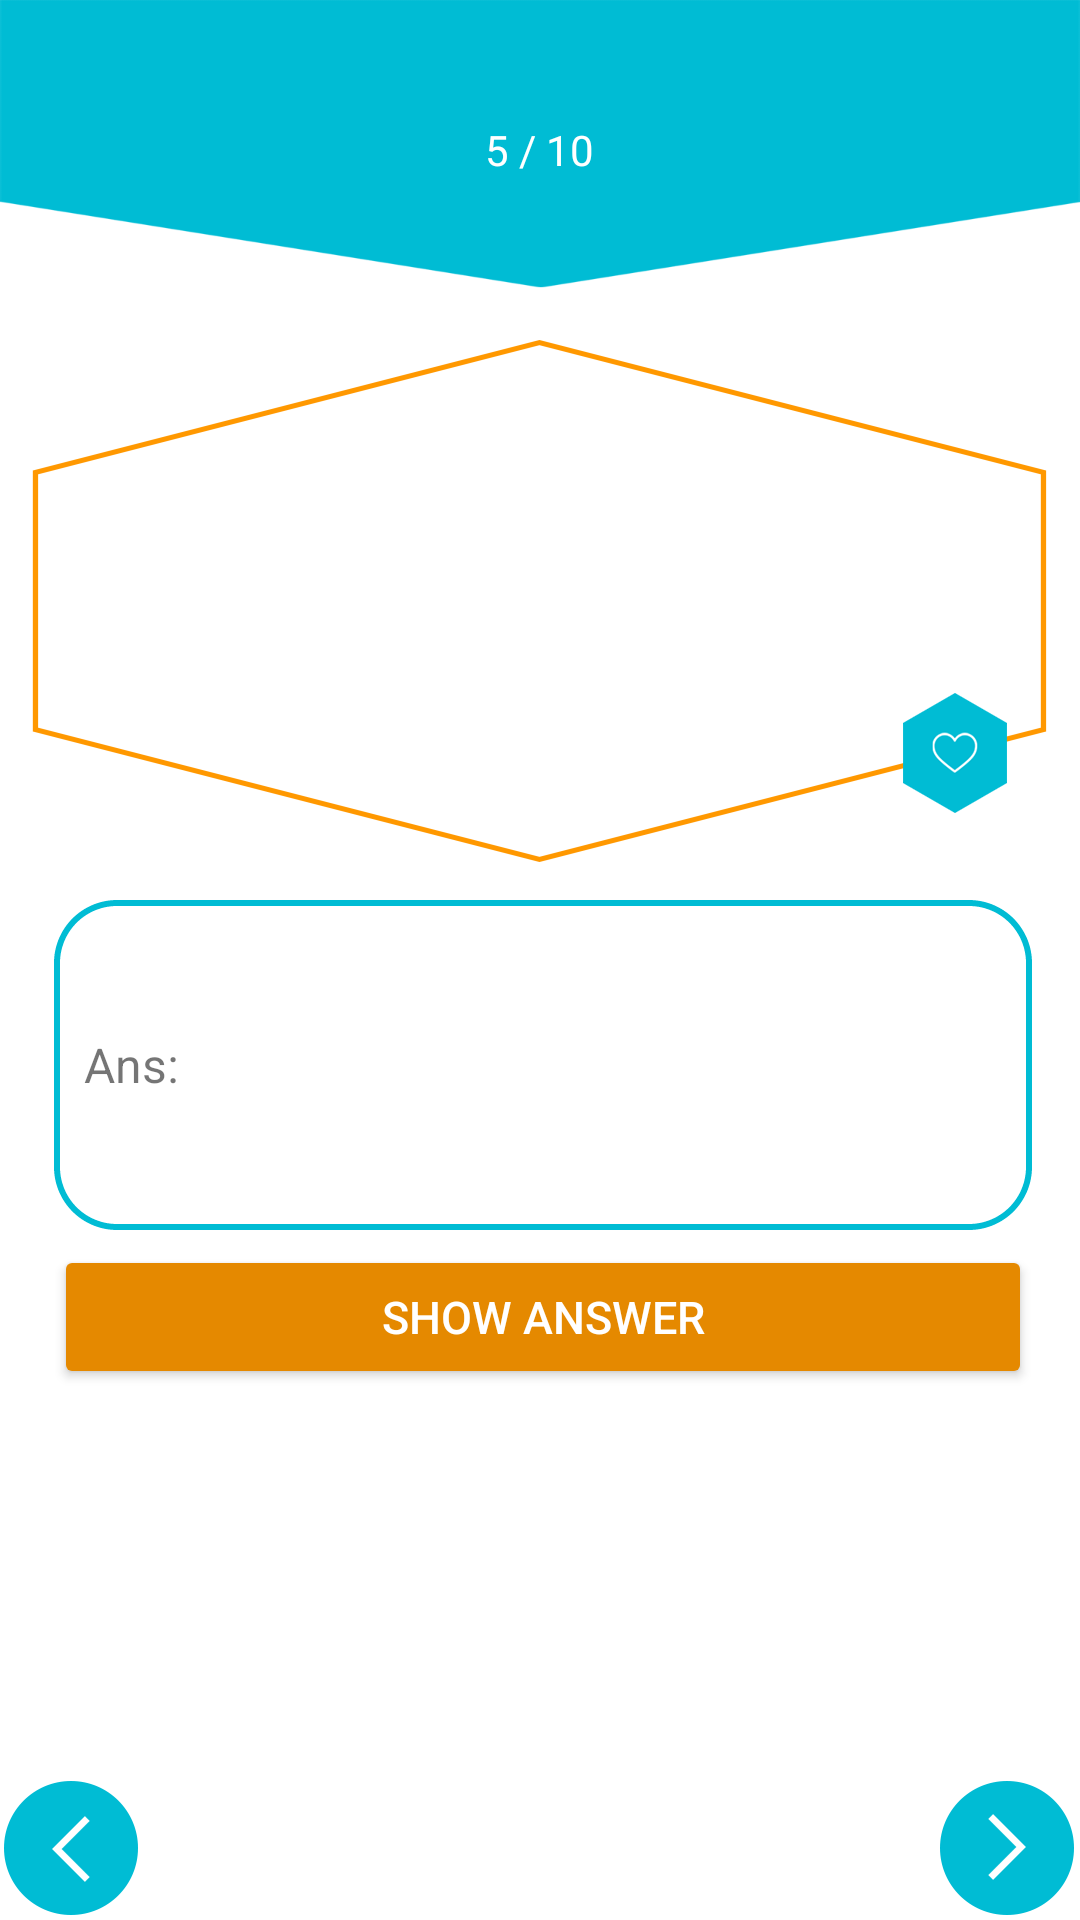

Screen size 1080 x 1920. Icon name, then its center in pixels as [x,y]:
nextbtn: [1007,1848]
pre: [71,1848]
